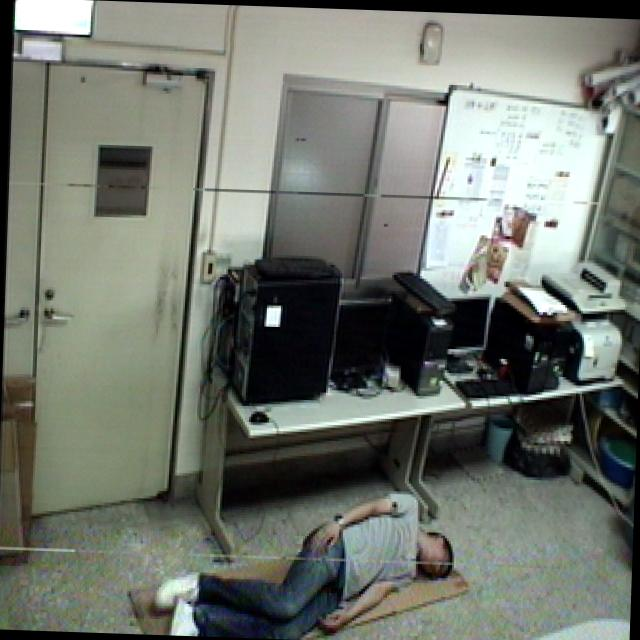lie: (149, 476, 466, 640)
